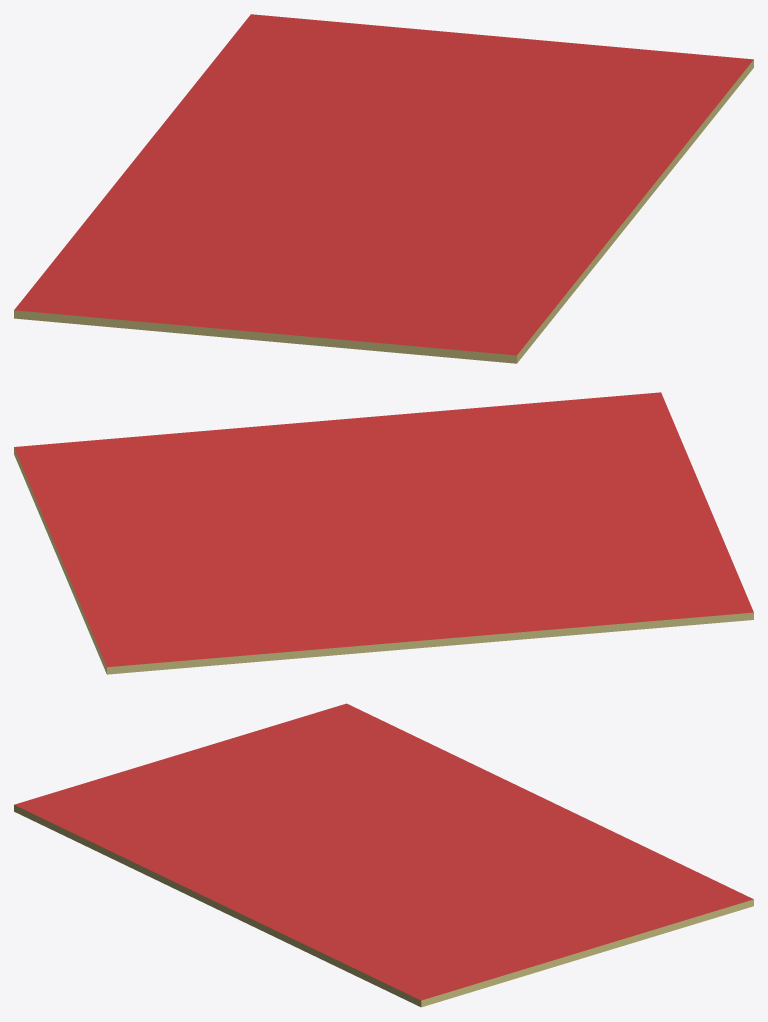
3 renders of one model, top to bottom at view 1: azimuth 30°, elevation 25°; view 2: azimuth 150°, elevation 25°; view 3: azimuth 270°, elevation 25°, orthographic. The views are drawn at different scales.
Size of the model in its own units: 9.92 by 9.71 by 0.423.
